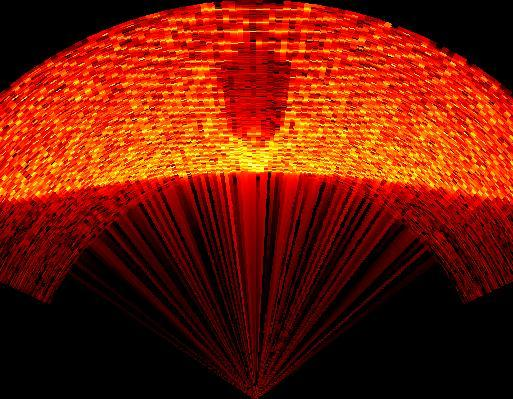box_crate: (214, 43, 290, 145)
